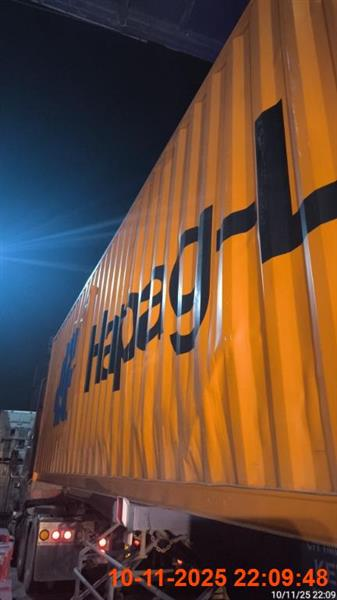hole: (13, 0, 335, 596)
